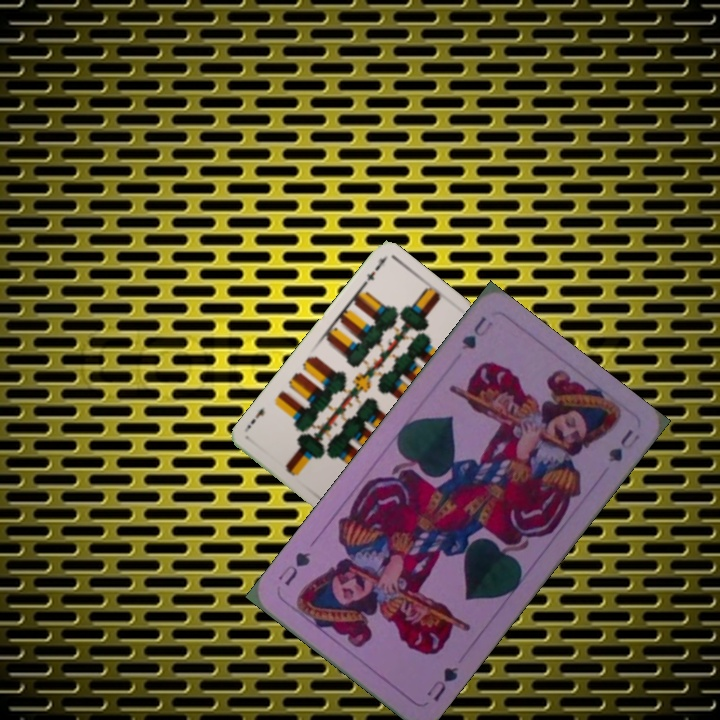E7: (359, 253, 388, 288)
GU: (422, 660, 462, 705), (457, 312, 496, 353)
